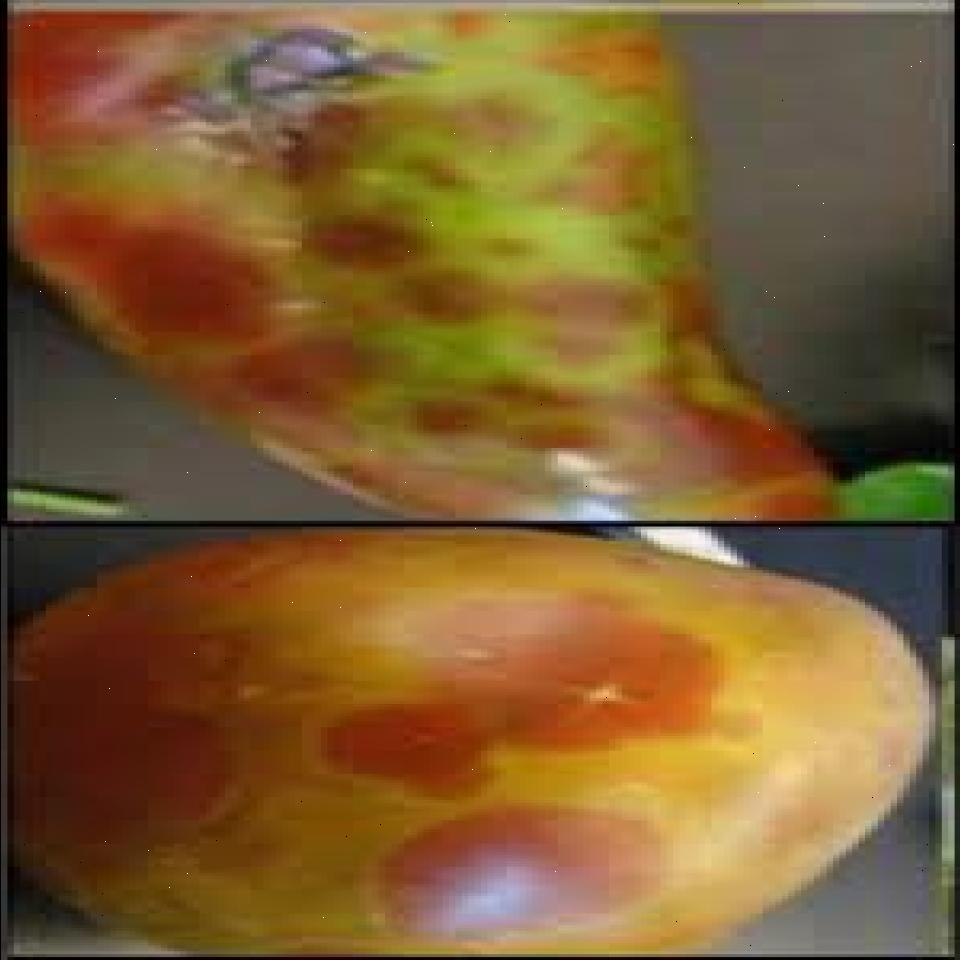Spotted wilt Virus: (6, 9, 832, 524), (13, 532, 928, 951)
